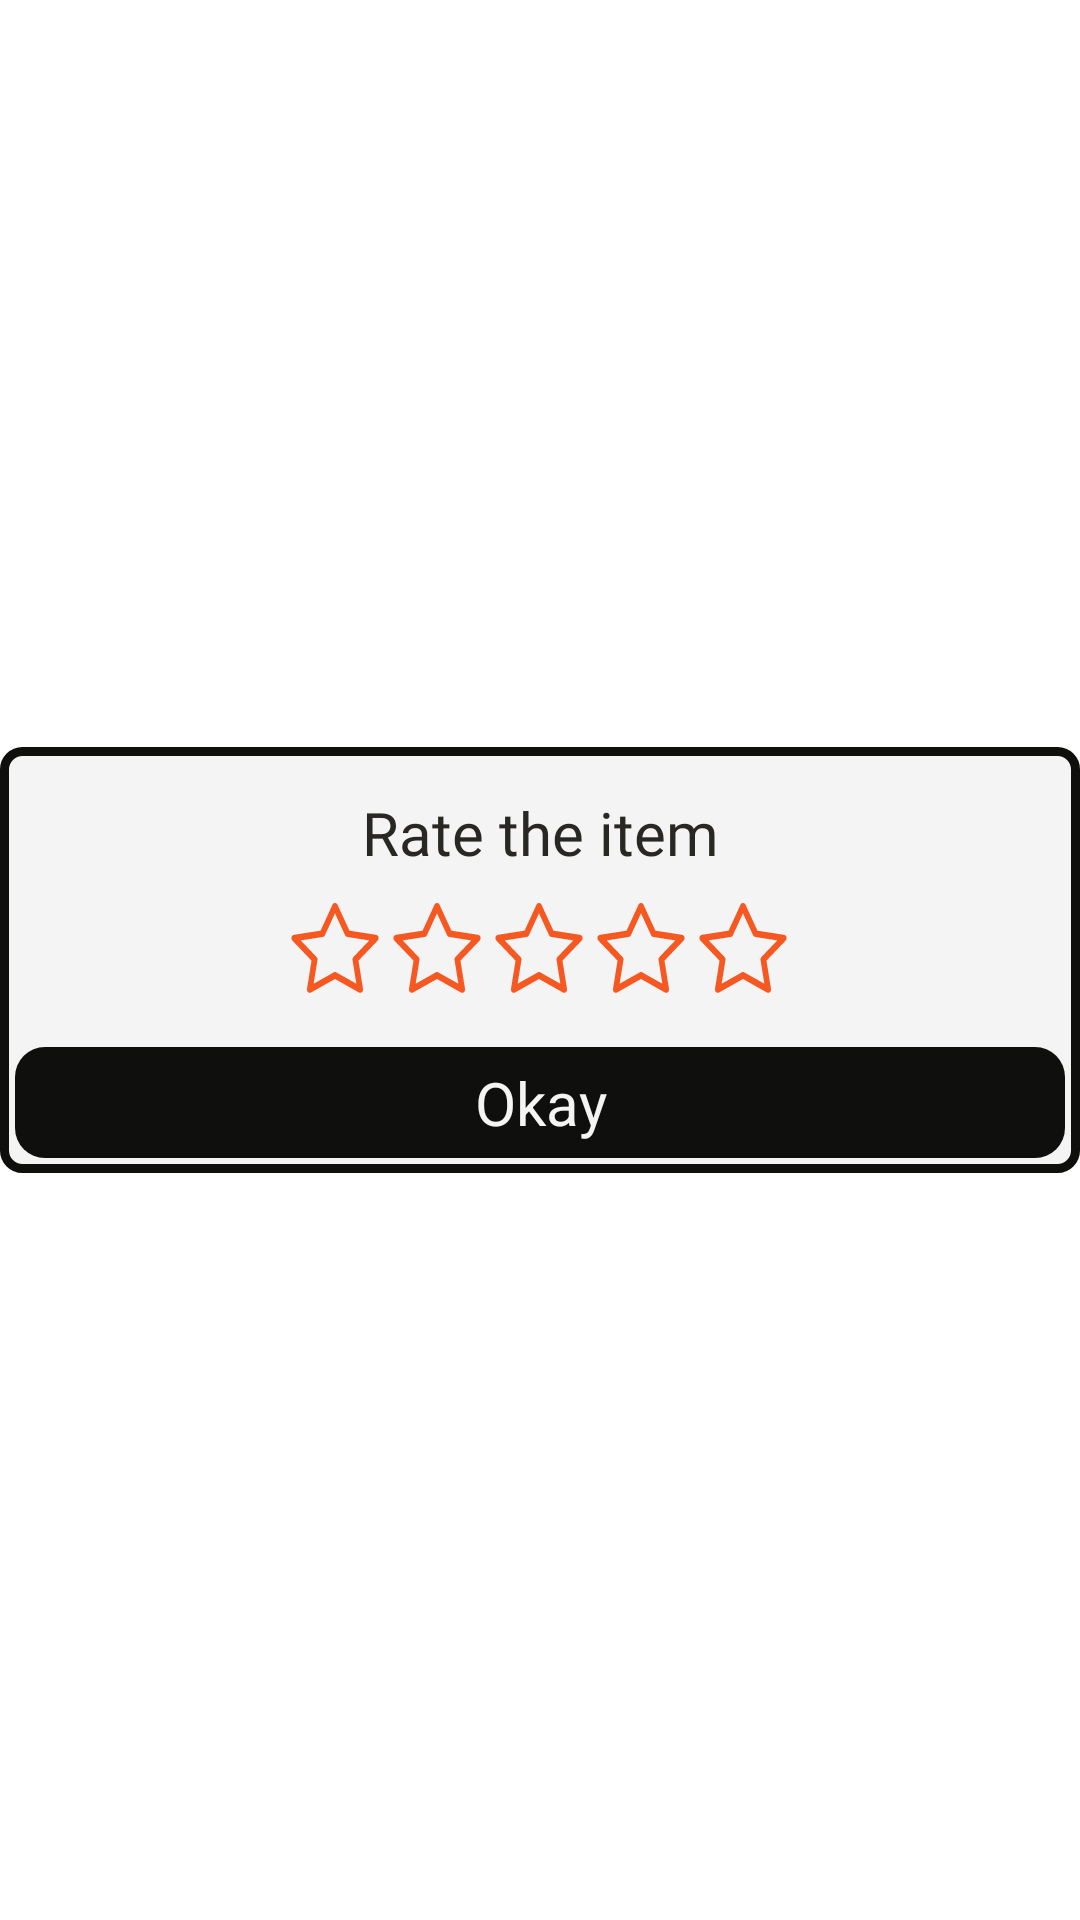

Icon click points for this 1080w x 1920h phone screenshot, format [x,y]:
emptystar review: [335,948], [437,948], [539,948], [641,948], [743,948]
